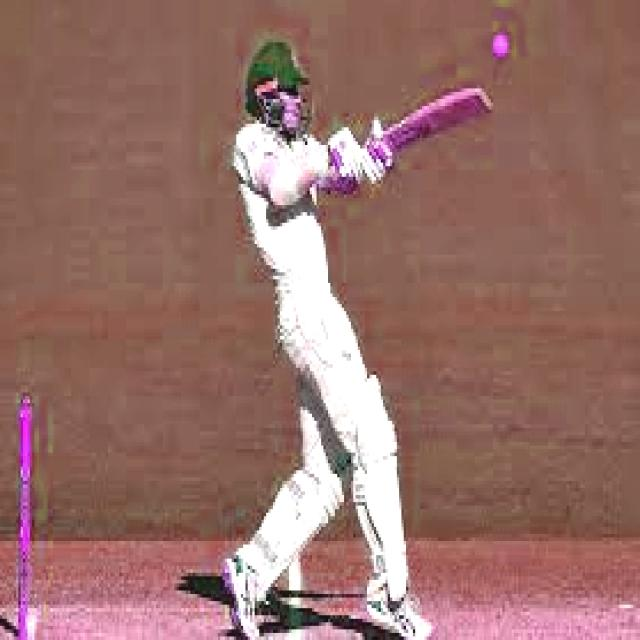toe: (464, 80, 496, 114)
